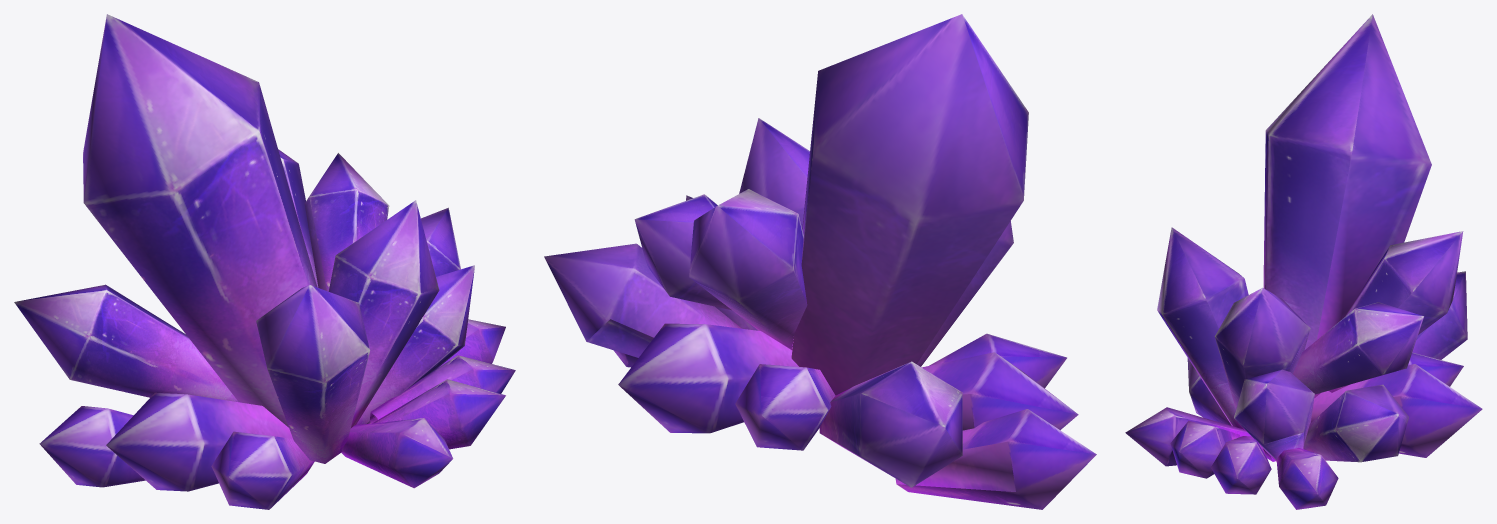
The picture shows the model from 3 angles, left to right: view 1: azimuth 30°, elevation 25°; view 2: azimuth 150°, elevation 25°; view 3: azimuth 270°, elevation 25°; orthographic projection. The views are drawn at different scales.
Visible parts, largest first — view 1: Bone001; view 2: Bone001; view 3: Bone001.
Part boxes in pixels (left/top/right/bottom): Bone001: left=14, top=14, right=515, bottom=509; Bone001: left=544, top=14, right=1096, bottom=509; Bone001: left=1125, top=14, right=1482, bottom=509.
Size of the model in its own units: 66.16 by 62.66 by 51.75.
